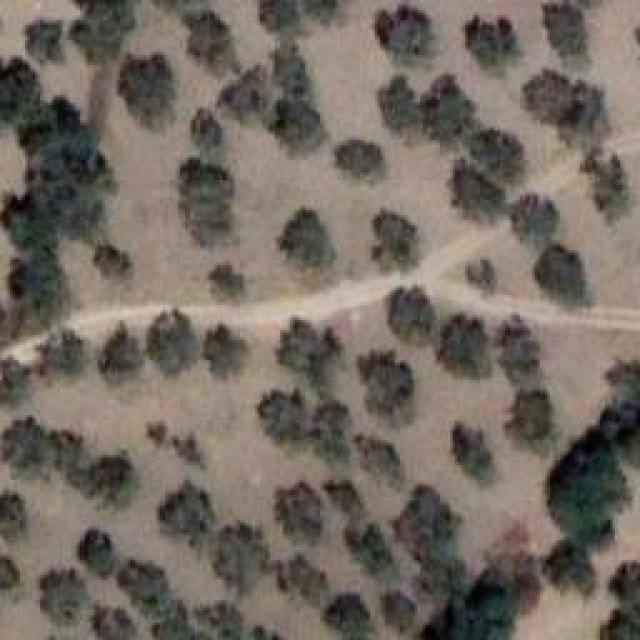Tree: (543, 430, 625, 535), (25, 100, 107, 191), (173, 157, 252, 250), (40, 180, 119, 260), (217, 515, 284, 599), (158, 470, 227, 550), (115, 45, 181, 126), (275, 318, 342, 392), (360, 340, 422, 419), (443, 317, 516, 382), (69, 0, 136, 63), (543, 0, 603, 70), (375, 5, 448, 62), (177, 0, 242, 64), (428, 78, 485, 150), (513, 375, 561, 457), (530, 240, 586, 309), (273, 203, 334, 266), (10, 263, 74, 321), (398, 288, 451, 358), (448, 423, 511, 481), (495, 308, 547, 378), (543, 537, 599, 602), (363, 208, 421, 270), (343, 520, 406, 577), (283, 563, 341, 624), (85, 450, 142, 512), (0, 195, 58, 255), (445, 163, 508, 218), (123, 555, 173, 624), (510, 185, 561, 250), (530, 62, 580, 126), (223, 70, 278, 128), (585, 143, 639, 202), (313, 463, 370, 518), (195, 323, 245, 385), (43, 567, 91, 631), (258, 385, 309, 445), (602, 390, 640, 470), (313, 408, 363, 468), (420, 540, 470, 597), (335, 135, 386, 190), (395, 495, 445, 551), (270, 100, 319, 157), (355, 443, 408, 495), (565, 83, 609, 145), (3, 416, 50, 474), (468, 575, 518, 629), (150, 313, 198, 369), (378, 580, 425, 637), (463, 18, 515, 69), (80, 533, 124, 593), (43, 426, 88, 484), (0, 52, 41, 115), (273, 490, 326, 537), (603, 347, 640, 414), (25, 10, 71, 62), (0, 355, 36, 420), (148, 418, 196, 465), (102, 330, 141, 387), (385, 70, 426, 124), (475, 135, 523, 180), (258, 0, 303, 47), (265, 48, 309, 94), (467, 253, 509, 301), (187, 108, 225, 159), (333, 595, 376, 640), (208, 260, 248, 308), (37, 333, 79, 378), (0, 495, 32, 553), (0, 553, 31, 604), (597, 605, 640, 640), (95, 233, 125, 279), (610, 565, 640, 608)
